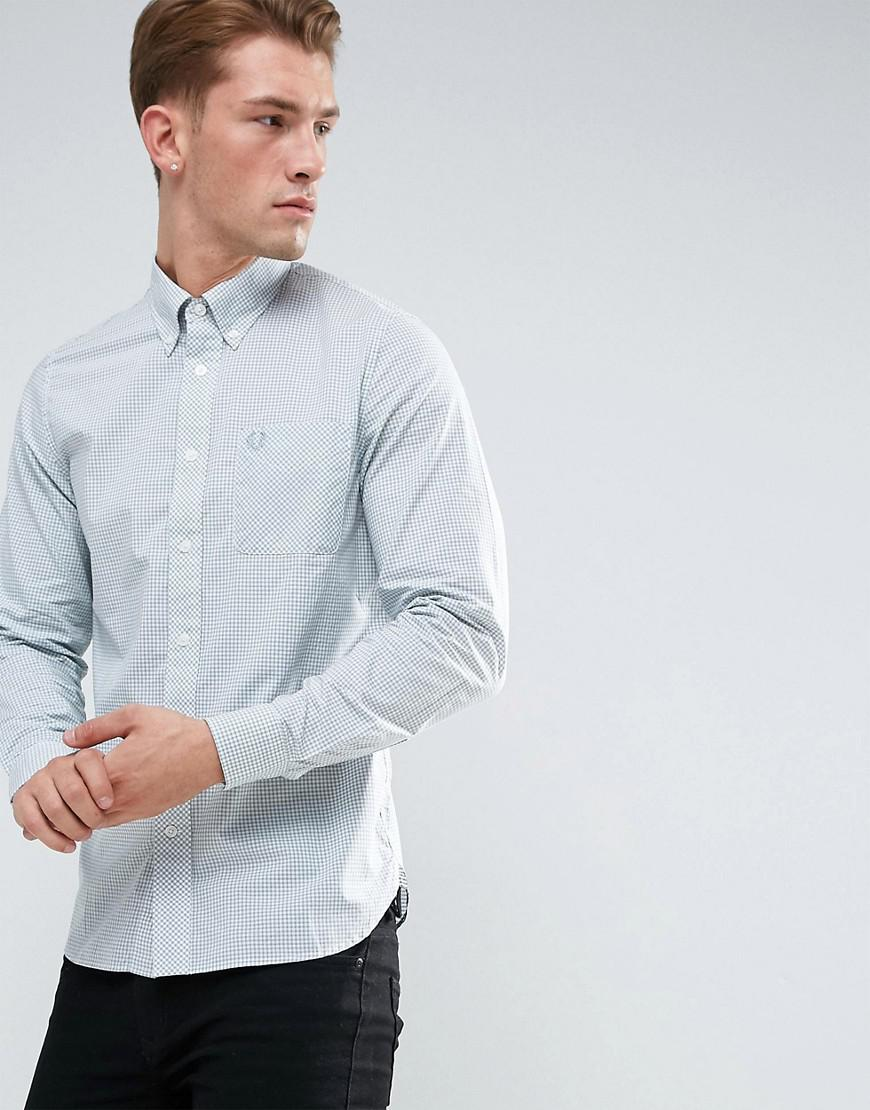teeshirt: (1, 256, 522, 1001)
